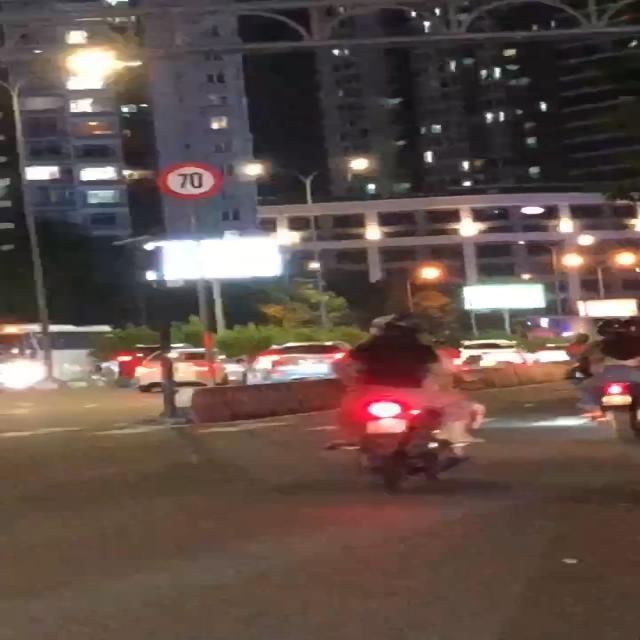Bien bao toc do toi da cho phep: (156, 160, 227, 202)
